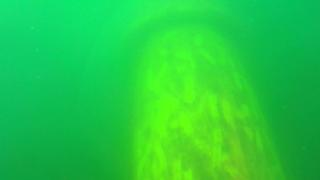pipe: (118, 8, 287, 179)
